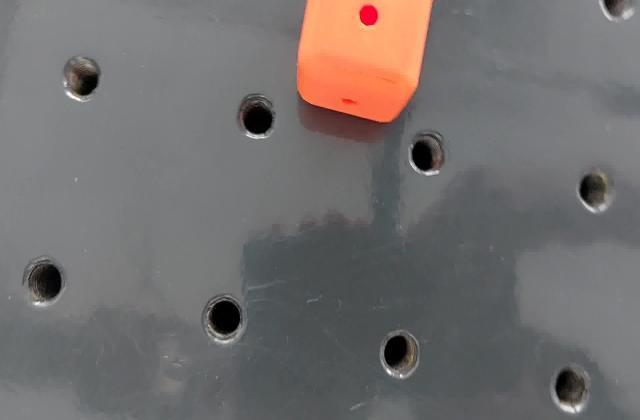cube: (294, 0, 436, 125)
